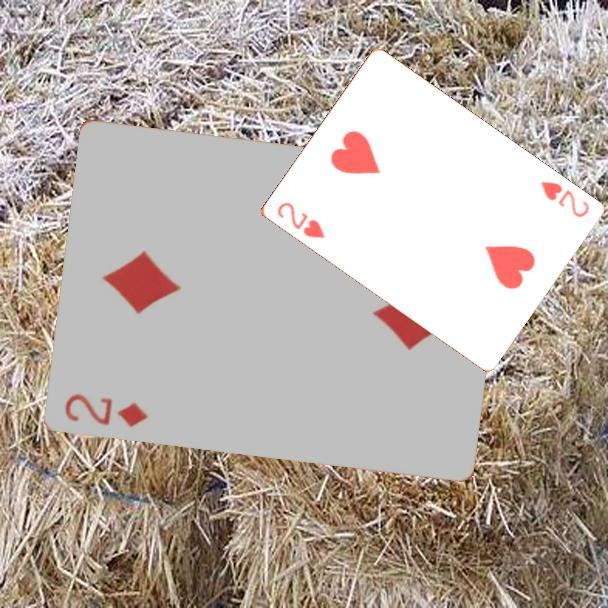d02: (61, 390, 151, 430)
h02: (273, 198, 328, 242), (537, 178, 592, 221)
